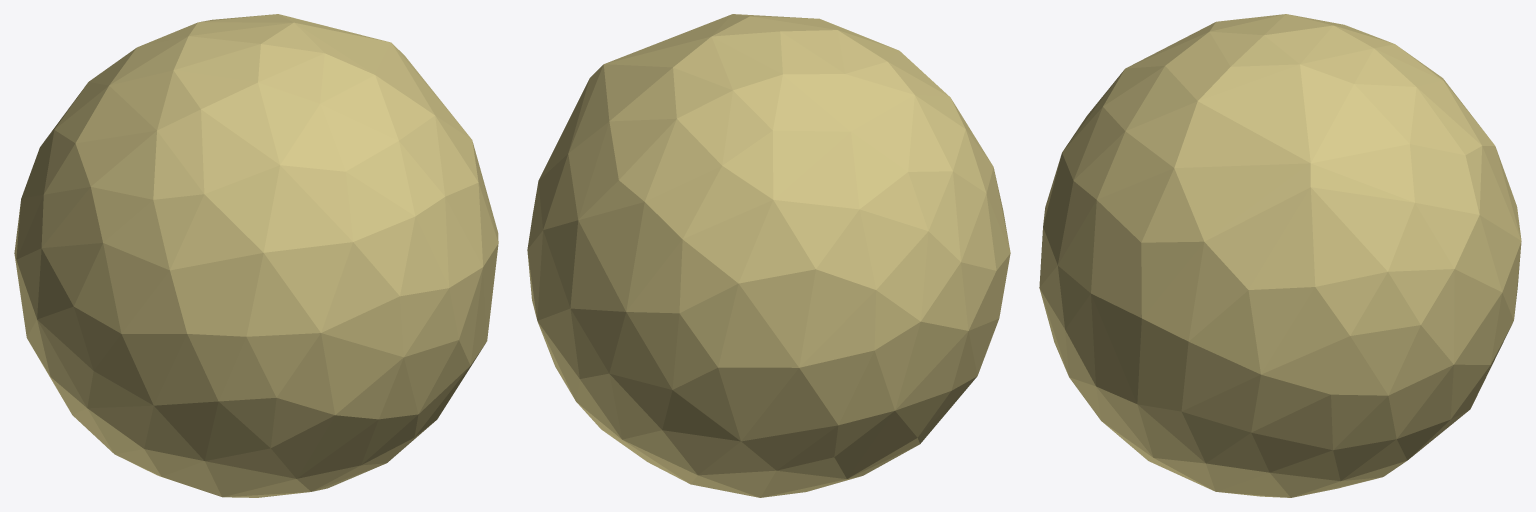
File: tatooine_simple.dae
3 renders of one model, left to right at view 1: azimuth 30°, elevation 25°; view 2: azimuth 150°, elevation 25°; view 3: azimuth 270°, elevation 25°, orthographic.
Visible parts, largest first — view 1: Icosphere; view 2: Icosphere; view 3: Icosphere.
Boxes of the visible parts, x1,y1,x2,y2 form: Icosphere: (14,14,498,497); Icosphere: (527,14,1010,497); Icosphere: (1039,14,1521,497).
Size of the model in its own units: 6.04 by 5.99 by 6.03.
